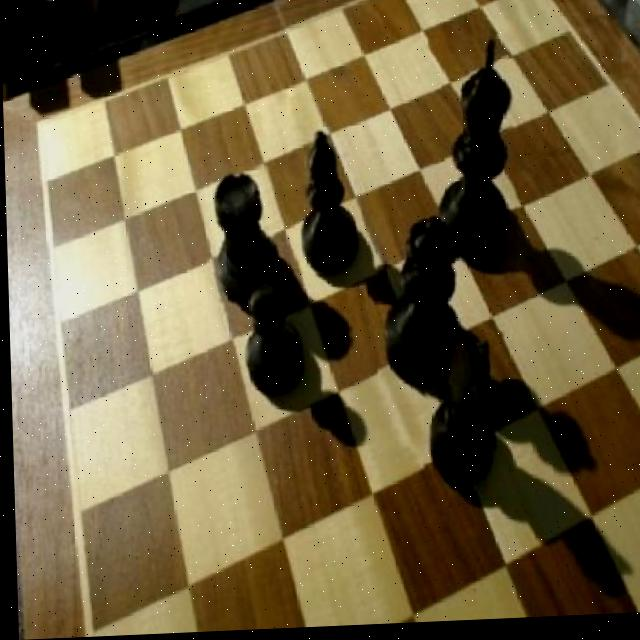bishop: (290, 129, 361, 280)
black-bishop: (427, 39, 516, 266)
black-king: (418, 332, 503, 497)
black-knight: (230, 279, 304, 401)
black-pawn: (372, 212, 460, 393)
black-queen: (204, 166, 275, 308)
